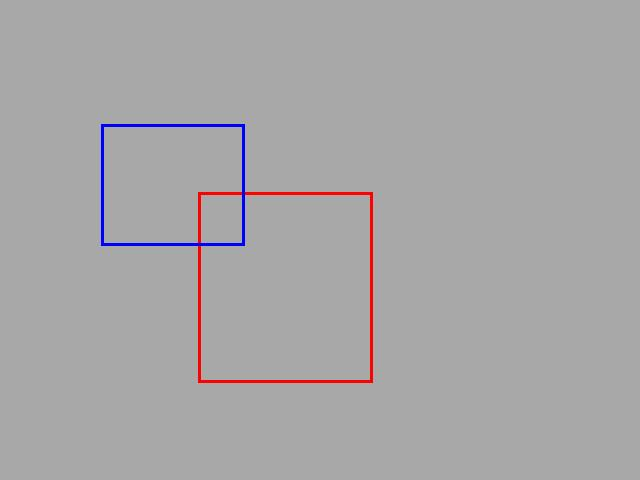car: (101, 124, 244, 245)
person: (198, 192, 372, 382)
